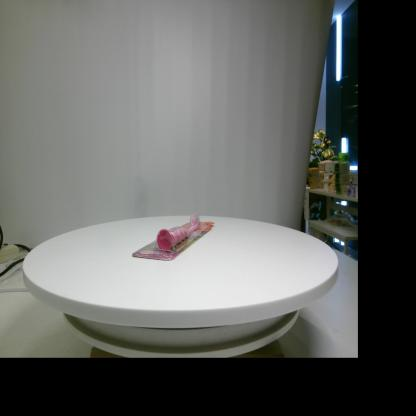Personal Hygiene: (132, 210, 215, 261)
